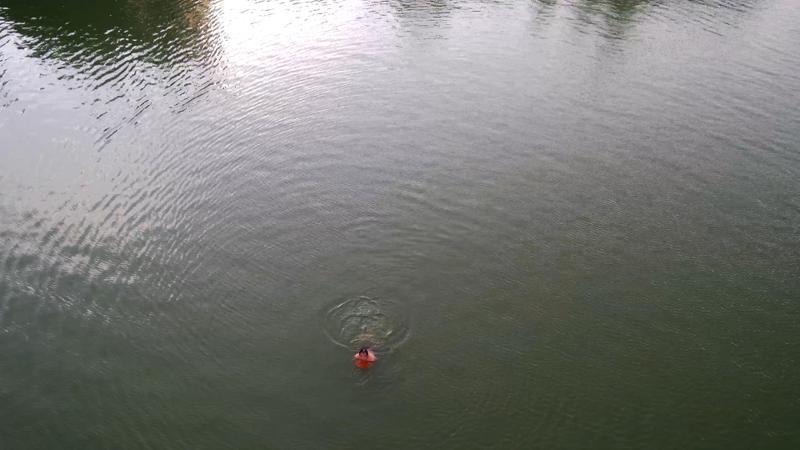swimmers: (351, 341, 379, 370)
